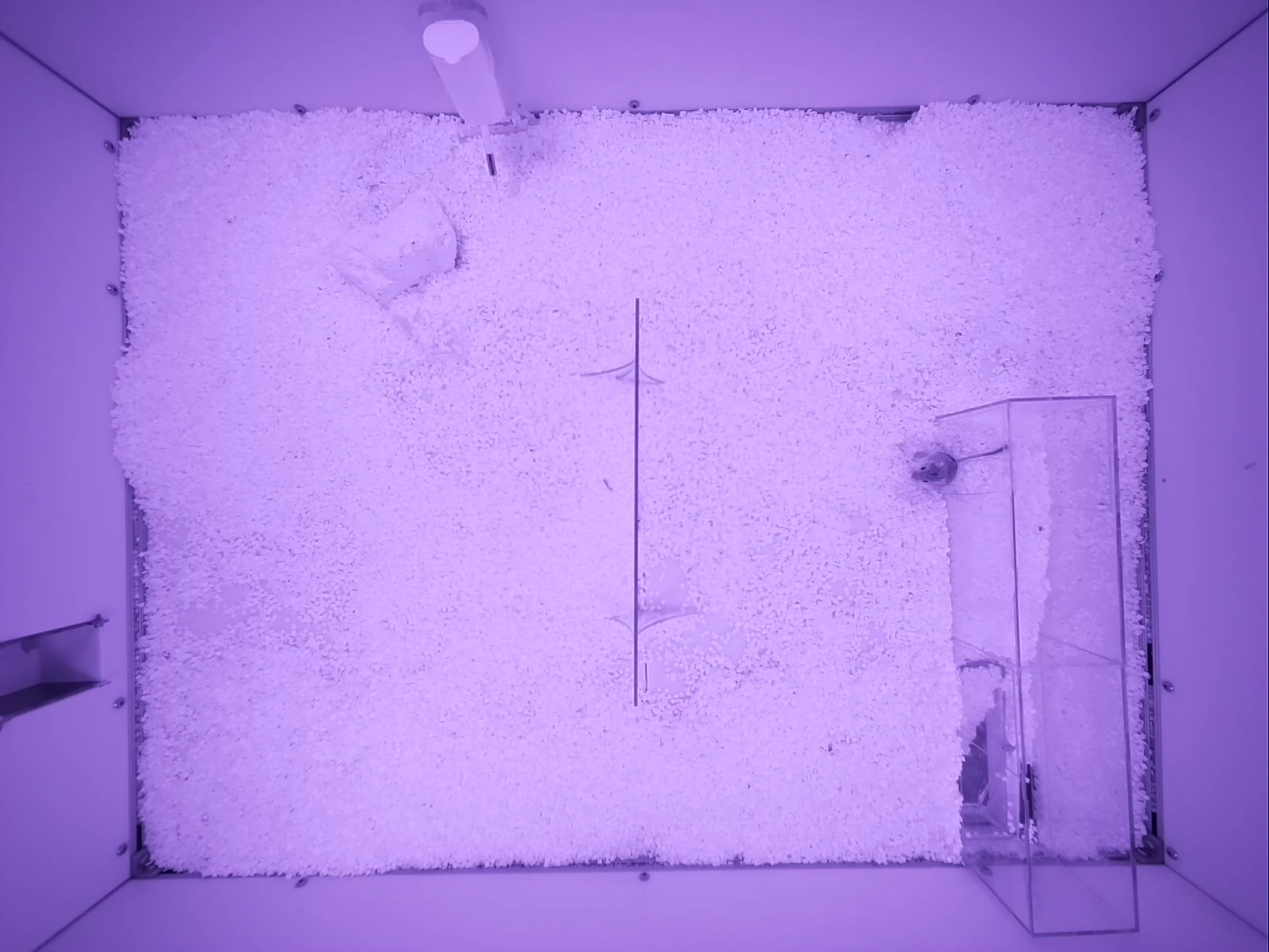adult_back: (911, 444, 1006, 486)
